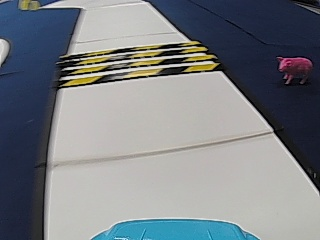bump: (74, 45, 189, 89)
